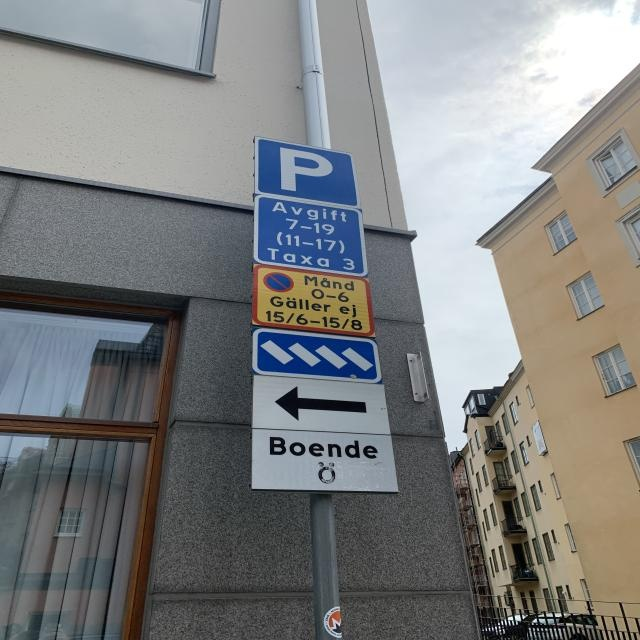P-skylt: (251, 134, 361, 208)
